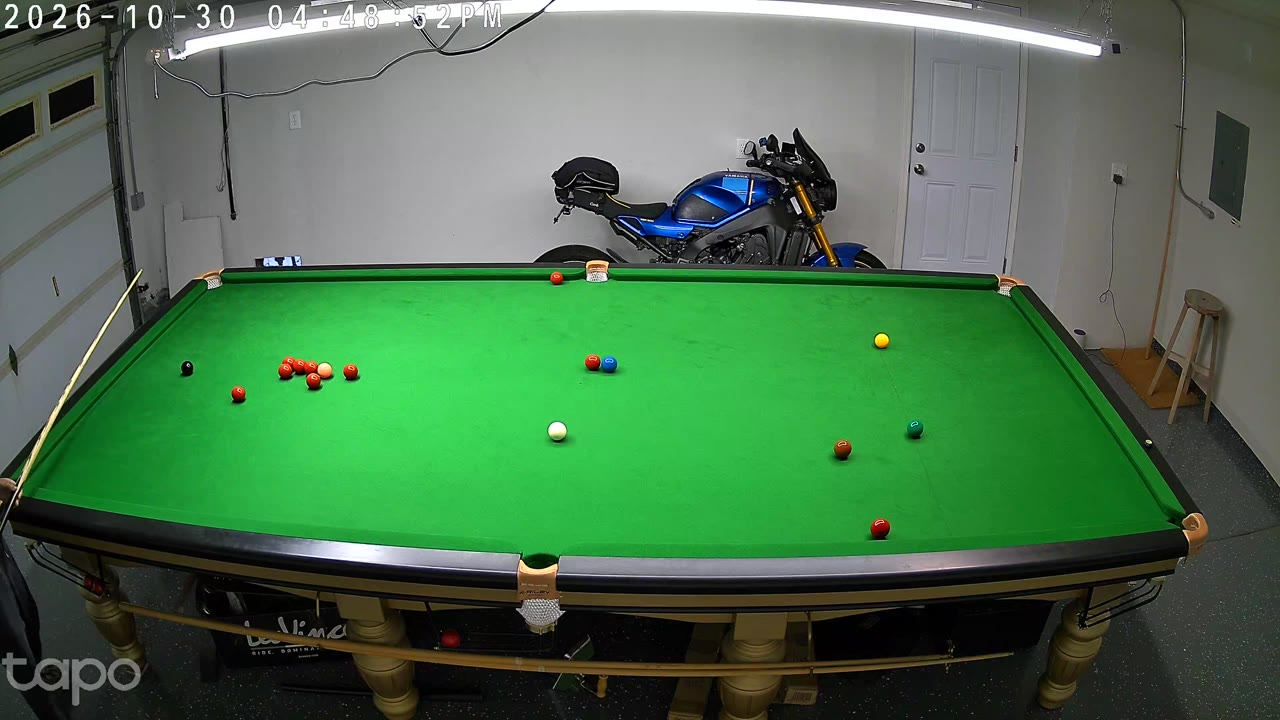black: (182, 359, 193, 378)
blue: (602, 355, 617, 376)
brown: (834, 438, 852, 463)
green: (906, 417, 923, 441)
pink: (318, 362, 331, 381)
red: (869, 515, 891, 547), (585, 353, 599, 374), (232, 385, 246, 405), (344, 363, 357, 382), (279, 362, 291, 382), (307, 371, 319, 391), (305, 360, 316, 379), (284, 356, 294, 376), (551, 271, 562, 288), (295, 358, 305, 376)
white: (548, 420, 567, 444)
yellow: (875, 332, 889, 351)
